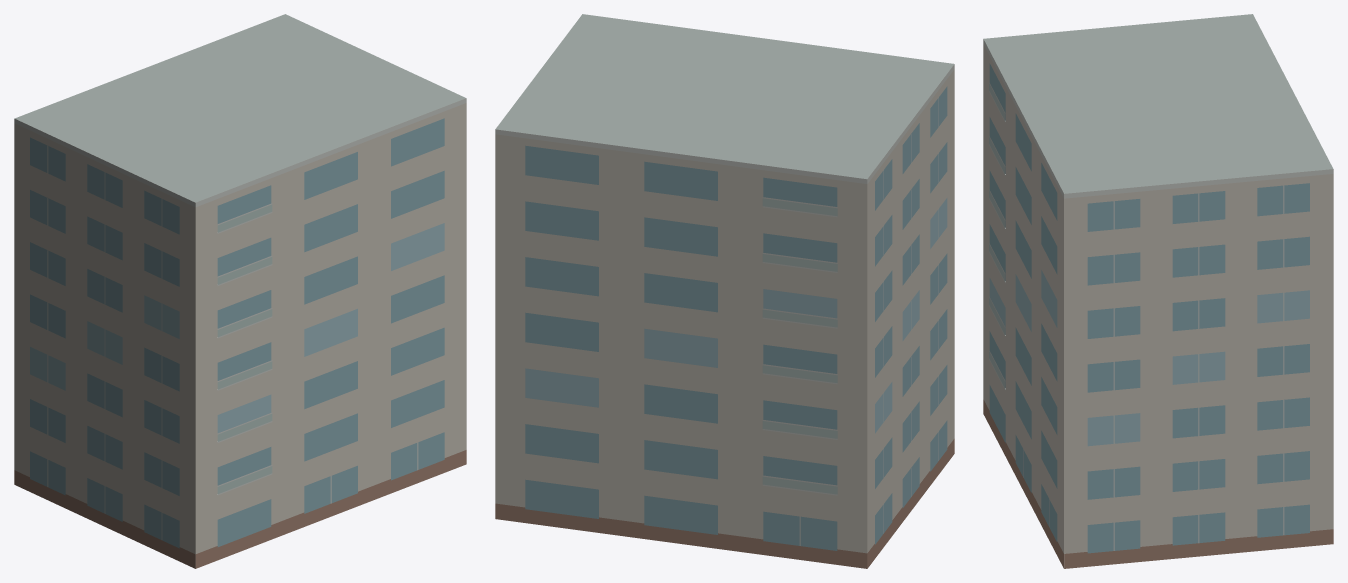
File: survey-upis-32696556.glb
The picture shows the model from 3 angles, left to right: view 1: azimuth 30°, elevation 25°; view 2: azimuth 150°, elevation 25°; view 3: azimuth 270°, elevation 25°; orthographic projection. The views are drawn at different scales.
Visible parts, largest first — view 1: survey-upis-32696556.tmp; view 2: survey-upis-32696556.tmp; view 3: survey-upis-32696556.tmp.
Part boxes in pixels (box(x1,y1,x2,y2)): survey-upis-32696556.tmp: box(14, 14, 466, 568); survey-upis-32696556.tmp: box(495, 14, 954, 568); survey-upis-32696556.tmp: box(983, 14, 1333, 568).
Bounding box in the file's own units: 19.71 × 19.15 × 16.22.
